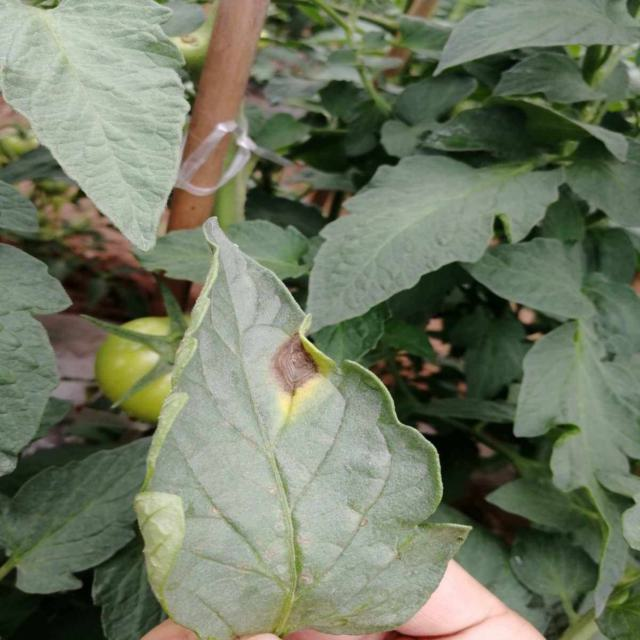Early_blight: (267, 319, 325, 404)
